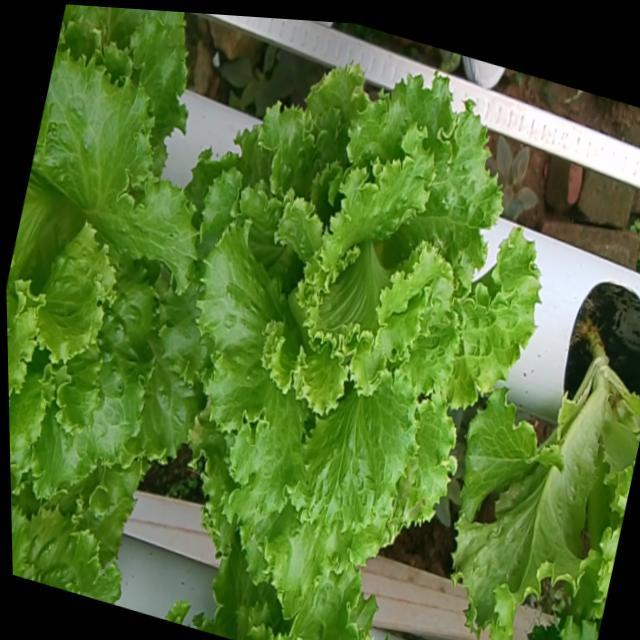Mature: (184, 57, 534, 584), (6, 34, 200, 488)
